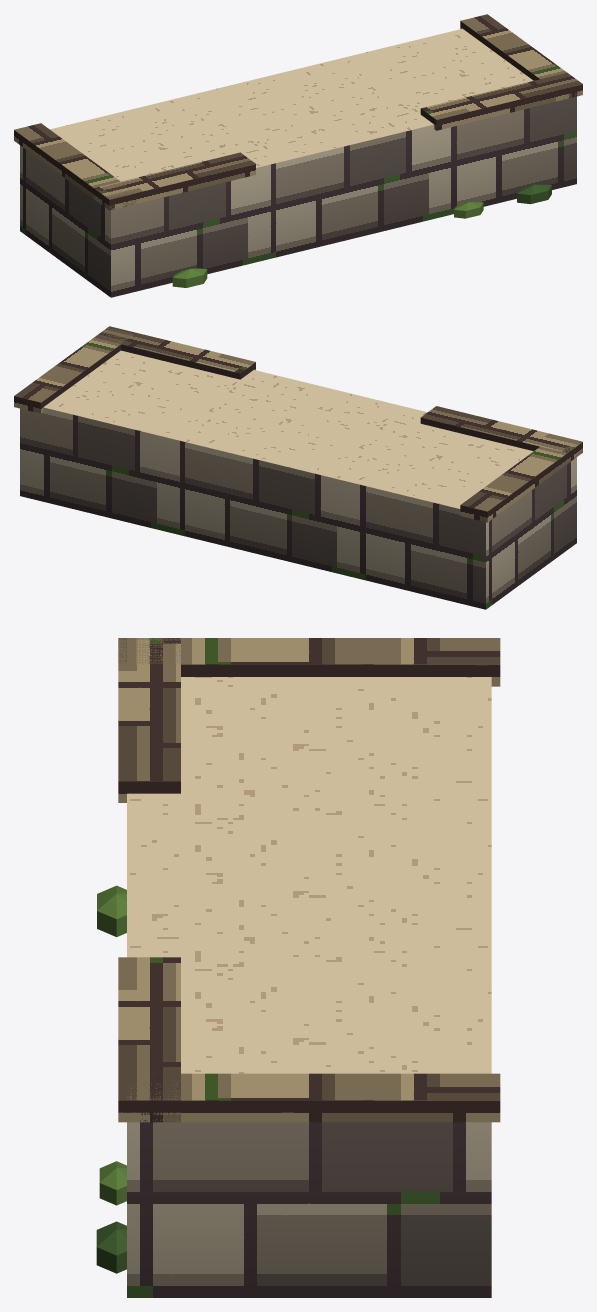
File: scene_plat_f3.glb
The picture shows the model from 3 angles, top to bottom: view 1: azimuth 30°, elevation 25°; view 2: azimuth 150°, elevation 25°; view 3: azimuth 270°, elevation 25°; orthographic projection. The views are drawn at different scales.
Visible parts, largest first — view 1: scene_plat_f3; view 2: scene_plat_f3; view 3: scene_plat_f3.
Boxes of the visible parts, x1=… form: scene_plat_f3: x1=14, y1=14, x2=582, y2=297; scene_plat_f3: x1=14, y1=326, x2=582, y2=609; scene_plat_f3: x1=96, y1=638, x2=500, y2=1297.
Bounding box in the file's own units: 6.3 × 1.36 × 2.33.
Materials: 3 (2 with a texture image).
